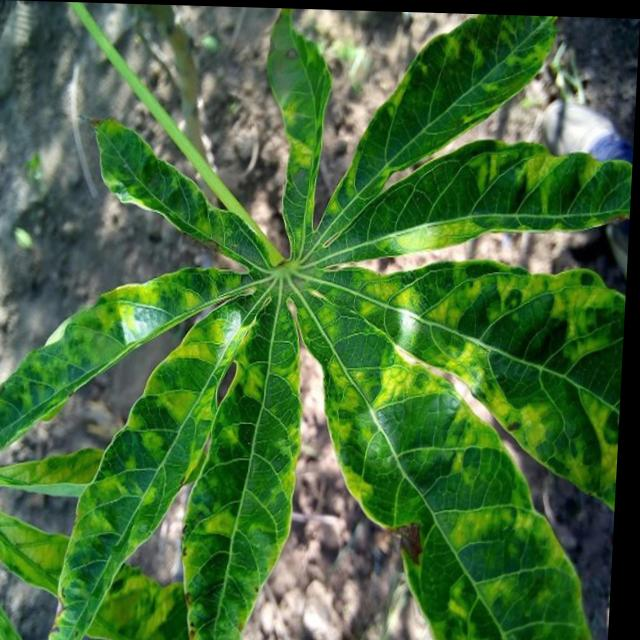Mosaico: (69, 56, 640, 627), (345, 256, 614, 640), (58, 265, 325, 620)
